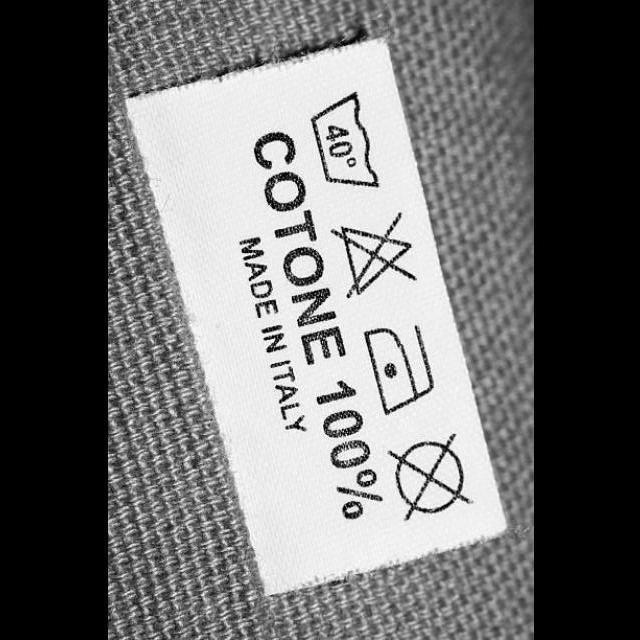40C: (307, 86, 383, 194)
DN_bleach: (328, 209, 418, 301)
DN_dry_clean: (382, 427, 476, 523)
iron_low: (360, 321, 436, 419)
